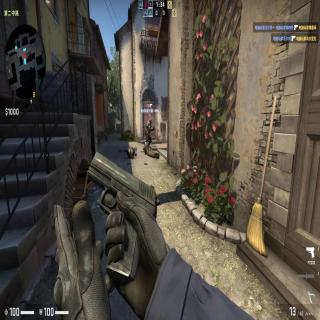CT-Head: (148, 118, 152, 125)
